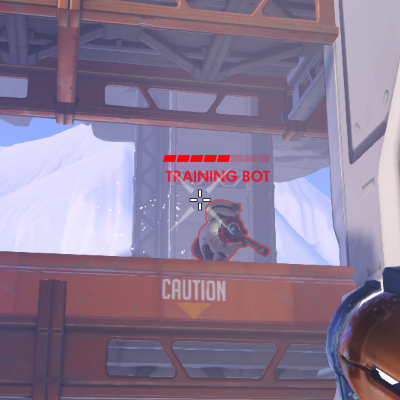hpbar: (162, 154, 272, 163)
